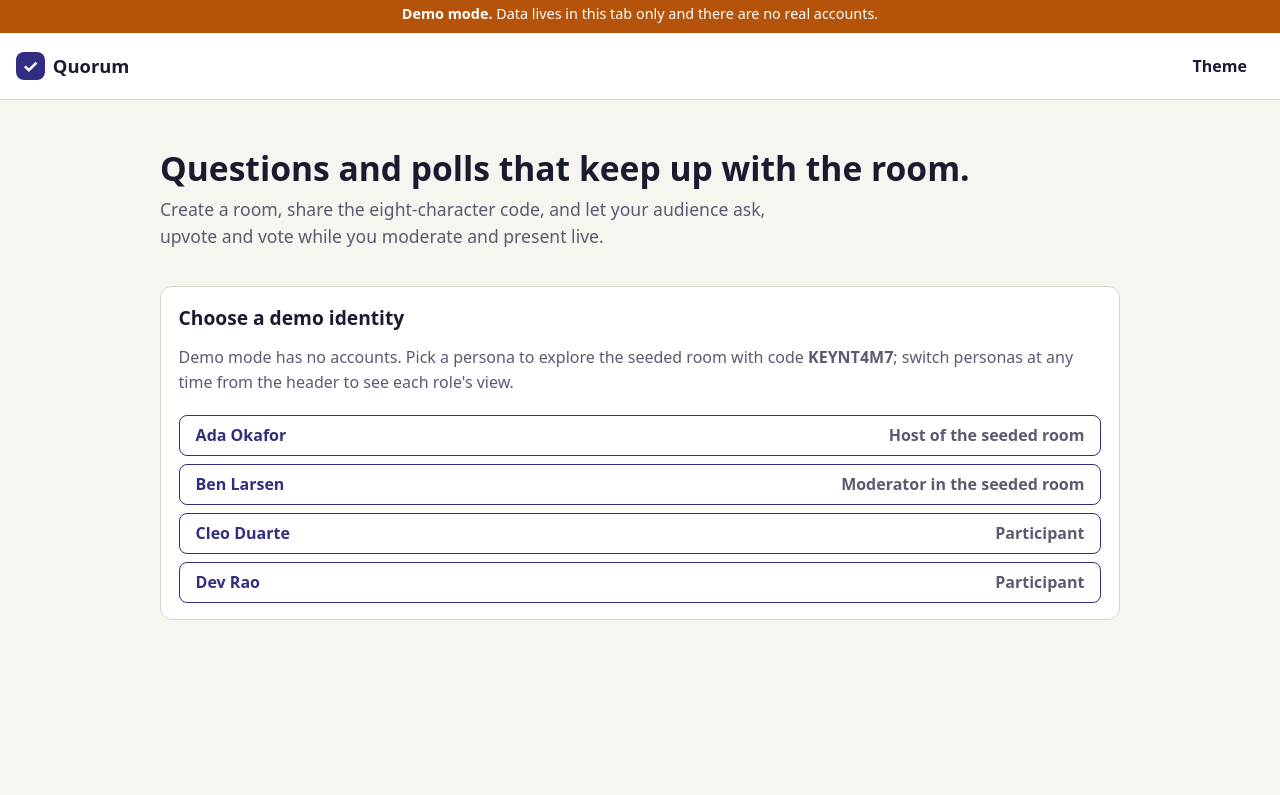
Scenario: as a participant › asks a question that waits for review, and upvotes an open one
The width and height of the screenshot is (1280, 795).
Click the button "Dev Rao Participant".
click(228, 582)  # box [179,562,1101,603]
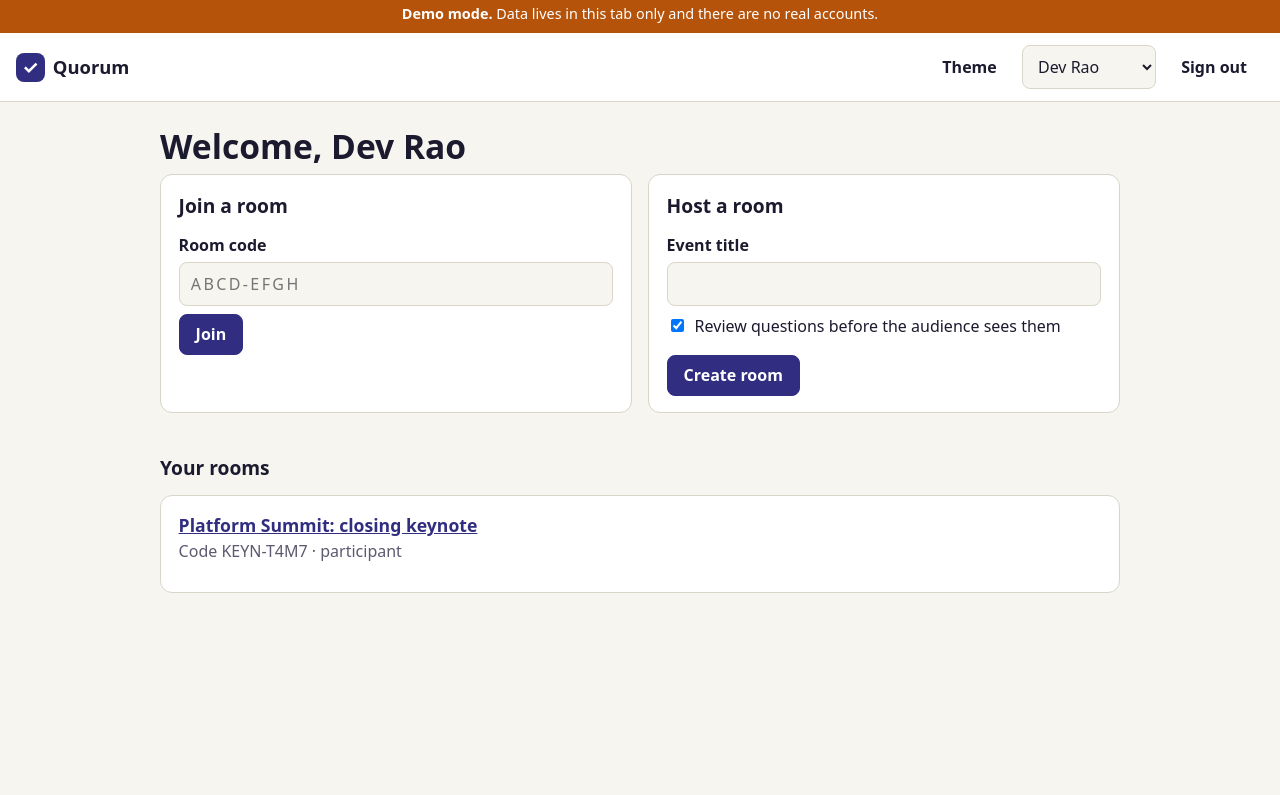
Click the link "Platform Summit: closing keynote".
click(328, 525)  # box [179,513,477,537]
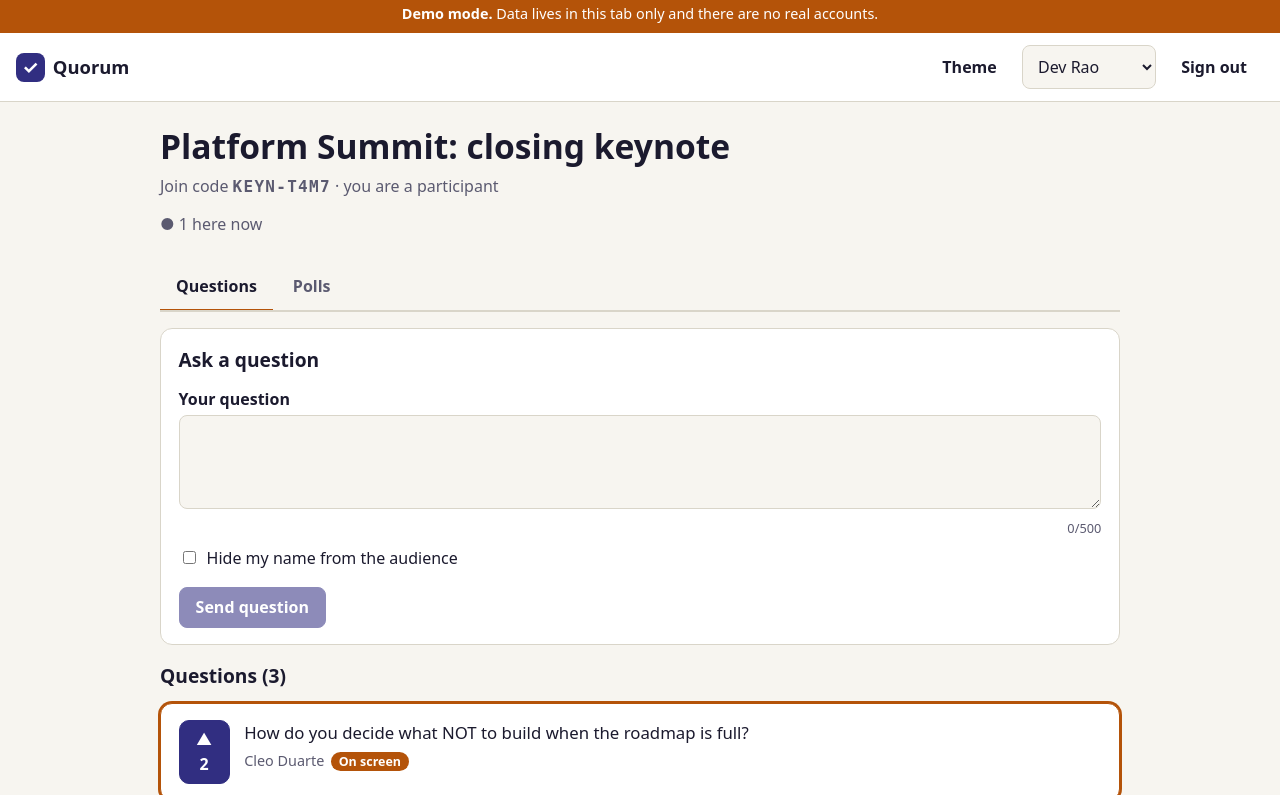
Type "What is the plan for plugins?" into the text box labelled "Your question".
click(640, 462); type("What is the plan for plugins?")  # box [179,415,1101,509]
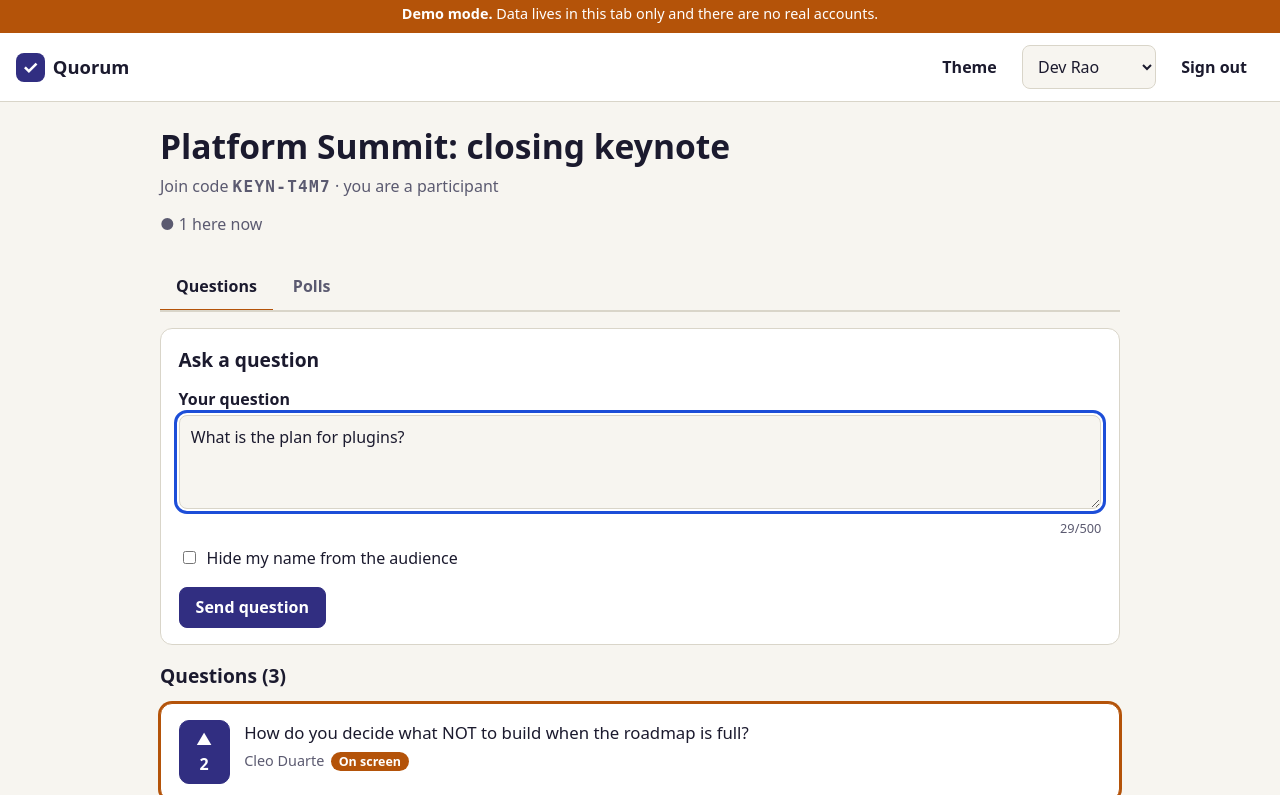
Click the button "Send question".
click(252, 608)  # box [179,587,326,628]
(page scrolled)
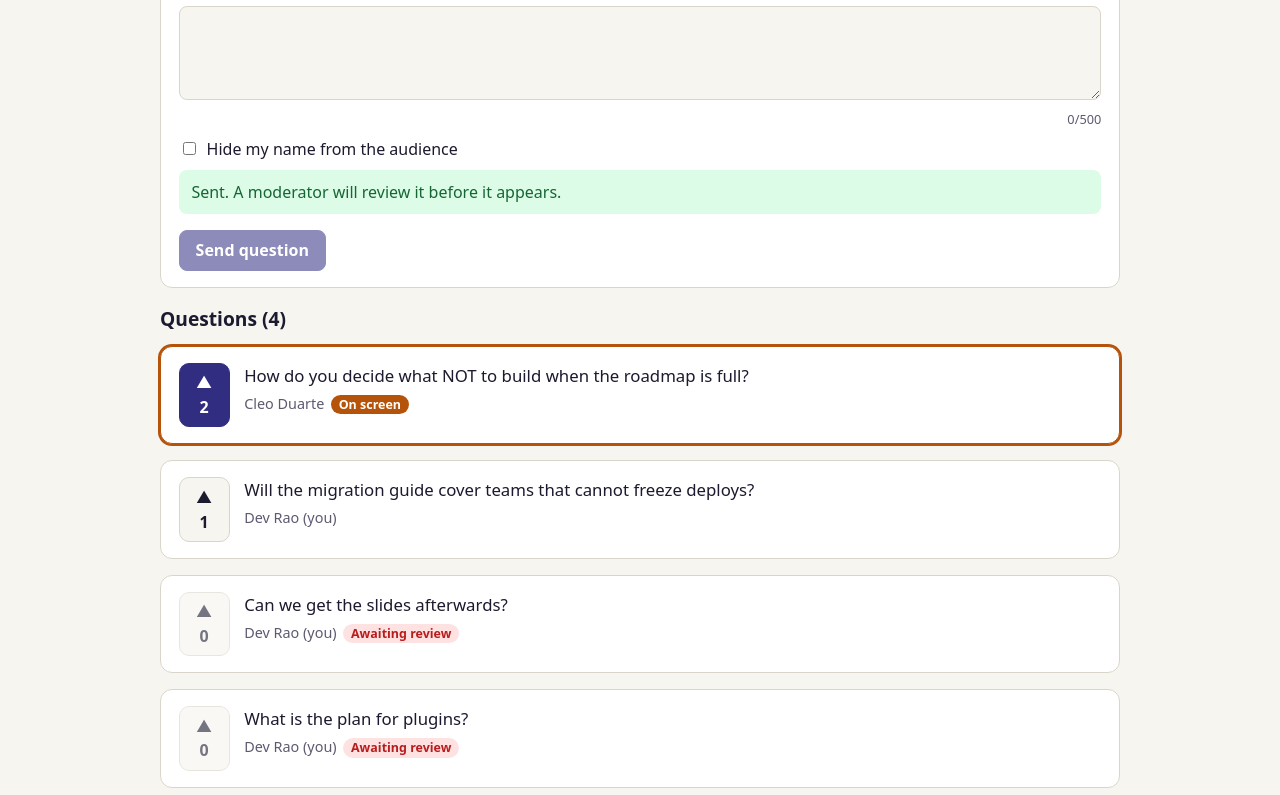
Expected: the text "Sent. A moderator will review it before it appears." is shown, [179,170,1101,214]
Expected: the text "Awaiting review" below "What is the plan for plugins?" is shown, [351,739,451,756]
Expected: the button named "Upvote" is disabled, [179,706,230,771]
Click the button named "Remove your upvote".
click(204, 395)  # box [179,363,230,428]
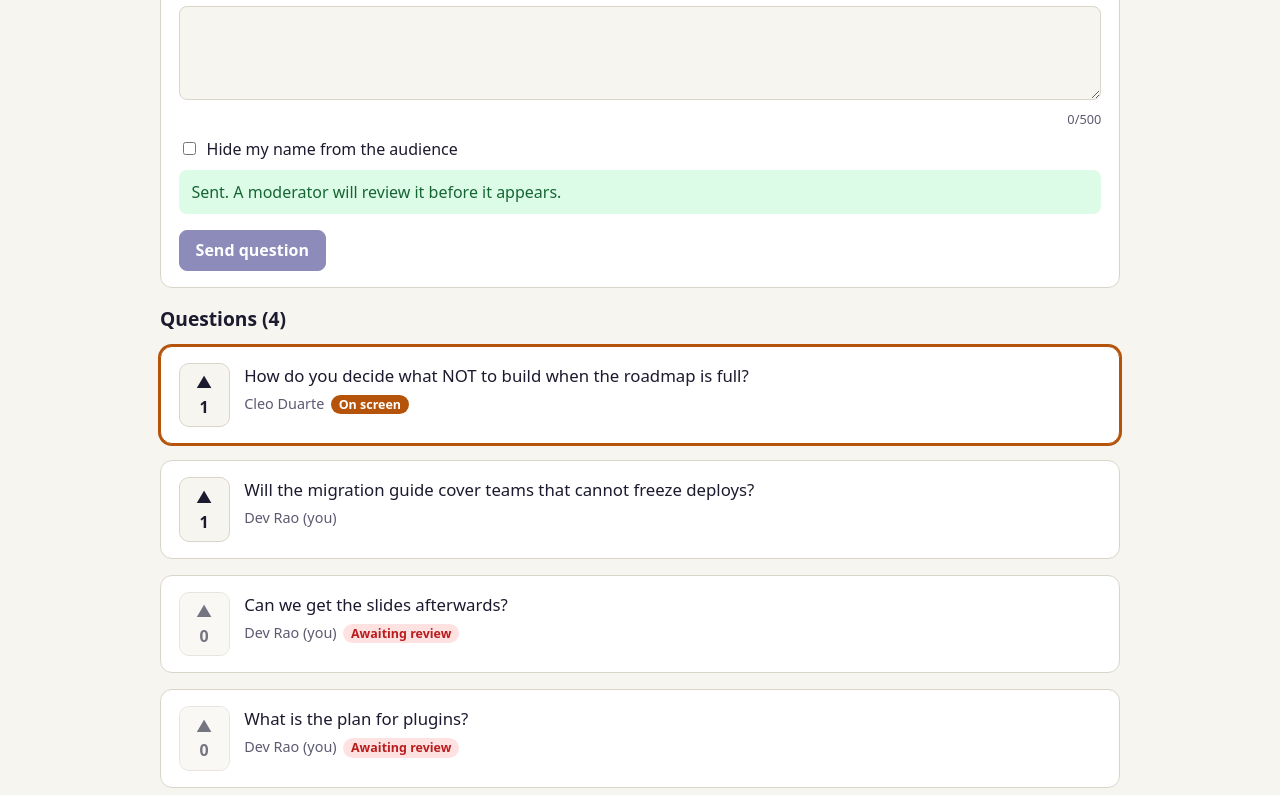
Expected: the text "1" in the row of "On screen" is shown, [200,396,209,418]
